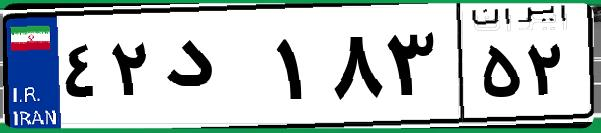1: (270, 28, 330, 110)
2: (525, 38, 570, 115), (110, 28, 158, 98)
3: (385, 28, 445, 110)
4: (57, 26, 110, 100)
5: (475, 38, 525, 113)
8: (330, 28, 385, 110)
د: (158, 20, 270, 120)
